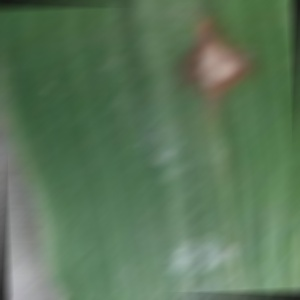Brown_Spot: (181, 10, 256, 108)
